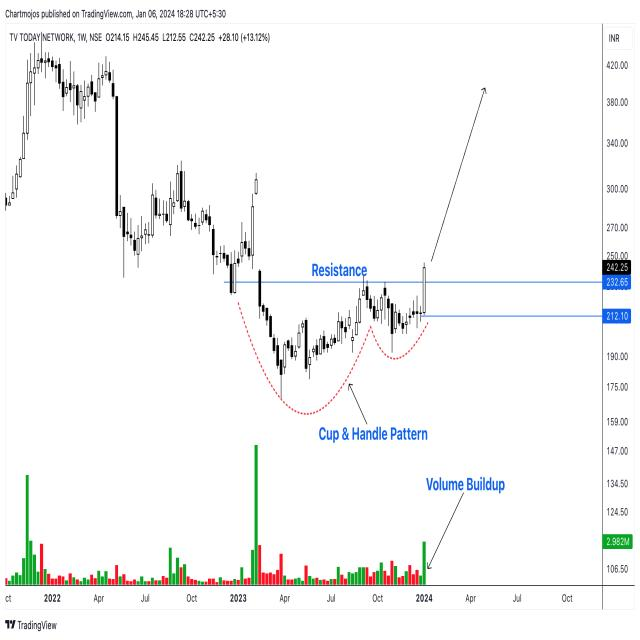Cup-and-handle: (248, 283, 433, 389)
